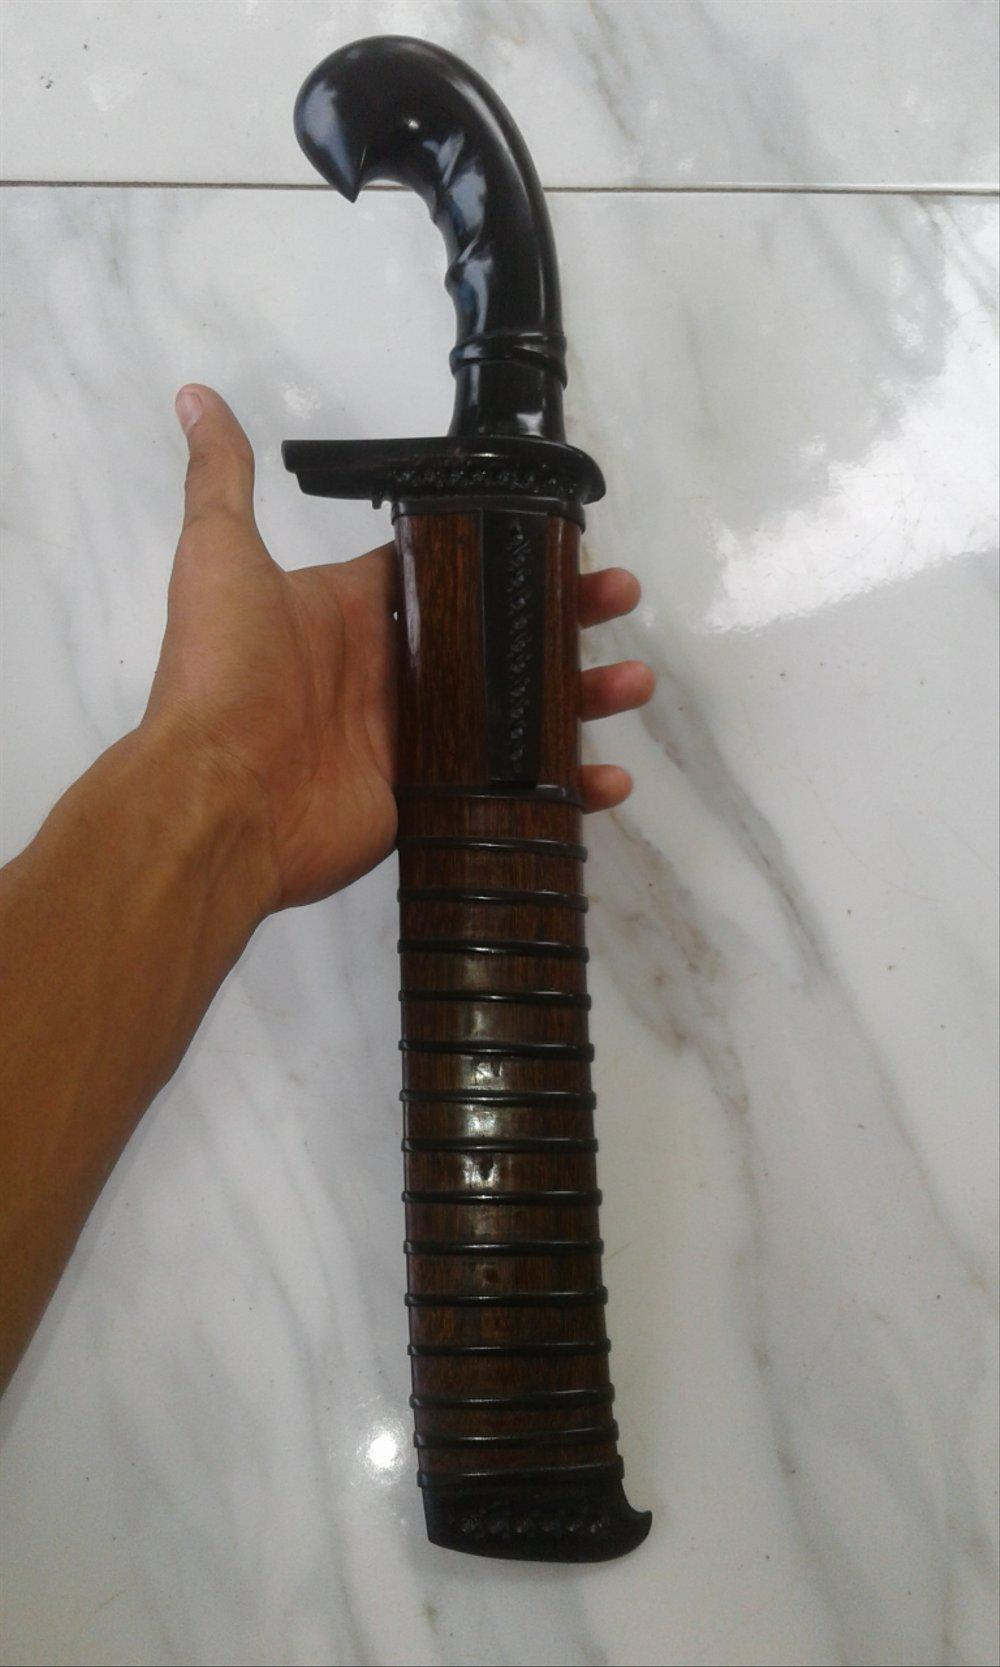facao: (283, 38, 651, 1562)
